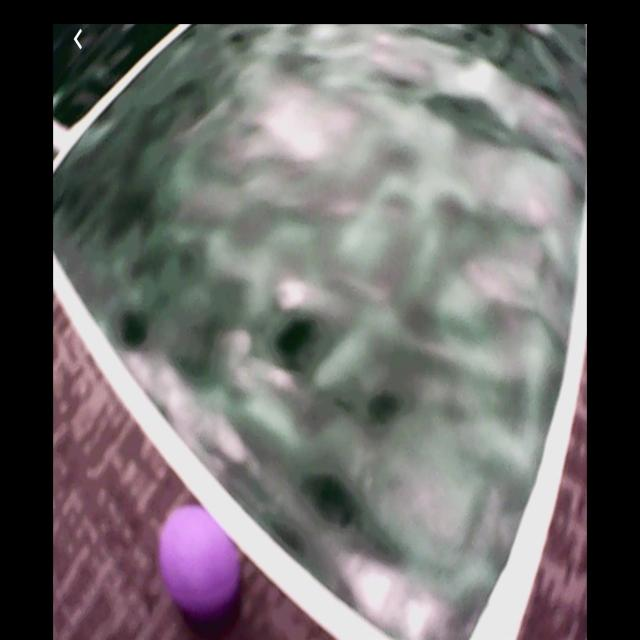ball: (157, 503, 244, 631)
